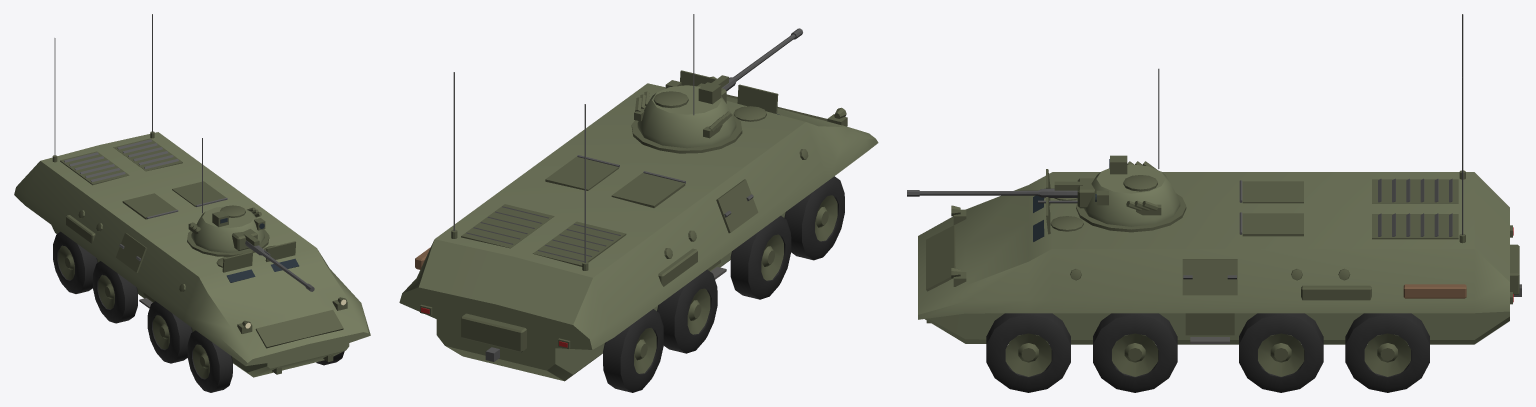
File: Enemy_APC.fbx
3 renders of one model, left to right at view 1: azimuth 30°, elevation 25°; view 2: azimuth 150°, elevation 25°; view 3: azimuth 270°, elevation 25°, orthographic. The views are drawn at different scales.
Visible parts, largest first — view 1: Enemy_APC_Mesh, Turret, Barrel; view 2: Enemy_APC_Mesh, Turret, Barrel; view 3: Enemy_APC_Mesh, Turret, Barrel.
Boxes of the visible parts, <box> form: Enemy_APC_Mesh: <box>14,14,370,392</box>; Turret: <box>187,138,269,256</box>; Barrel: <box>232,229,314,291</box>; Enemy_APC_Mesh: <box>399,70,878,392</box>; Turret: <box>631,14,742,153</box>; Barrel: <box>697,28,802,103</box>; Enemy_APC_Mesh: <box>918,14,1521,392</box>; Turret: <box>1076,68,1186,232</box>; Barrel: <box>907,178,1094,208</box>.
Size of the model in its own units: 2.95 by 4.28 by 7.79.
